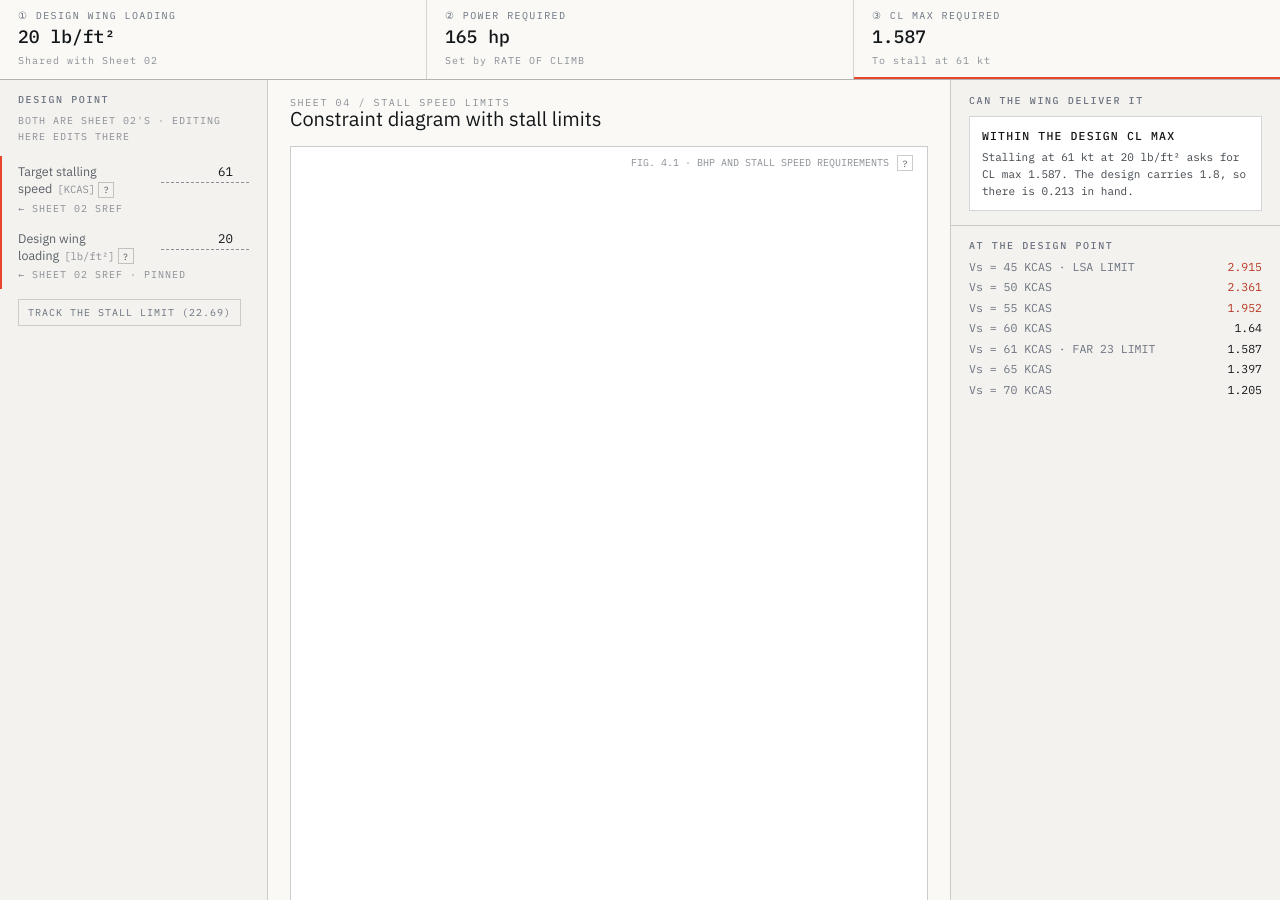
Scenario: StallLimits › writes the design wing loading to the atom Sheet 02 owns
Replace the text in the number field named "Design wing loading" with "26": (205, 240) [161, 230, 249, 250]
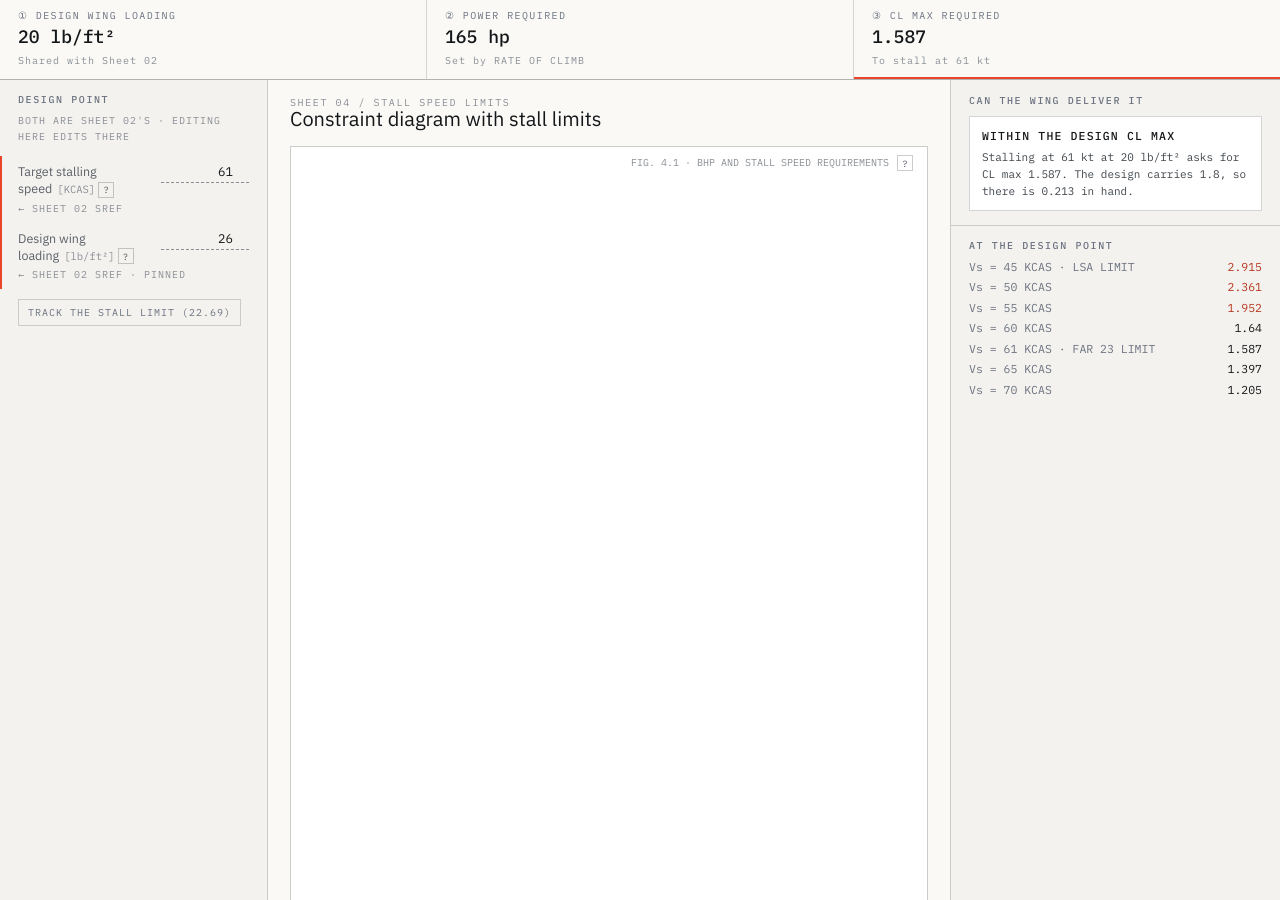
Leave the number field named "Design wing loading", box [161, 230, 249, 250]
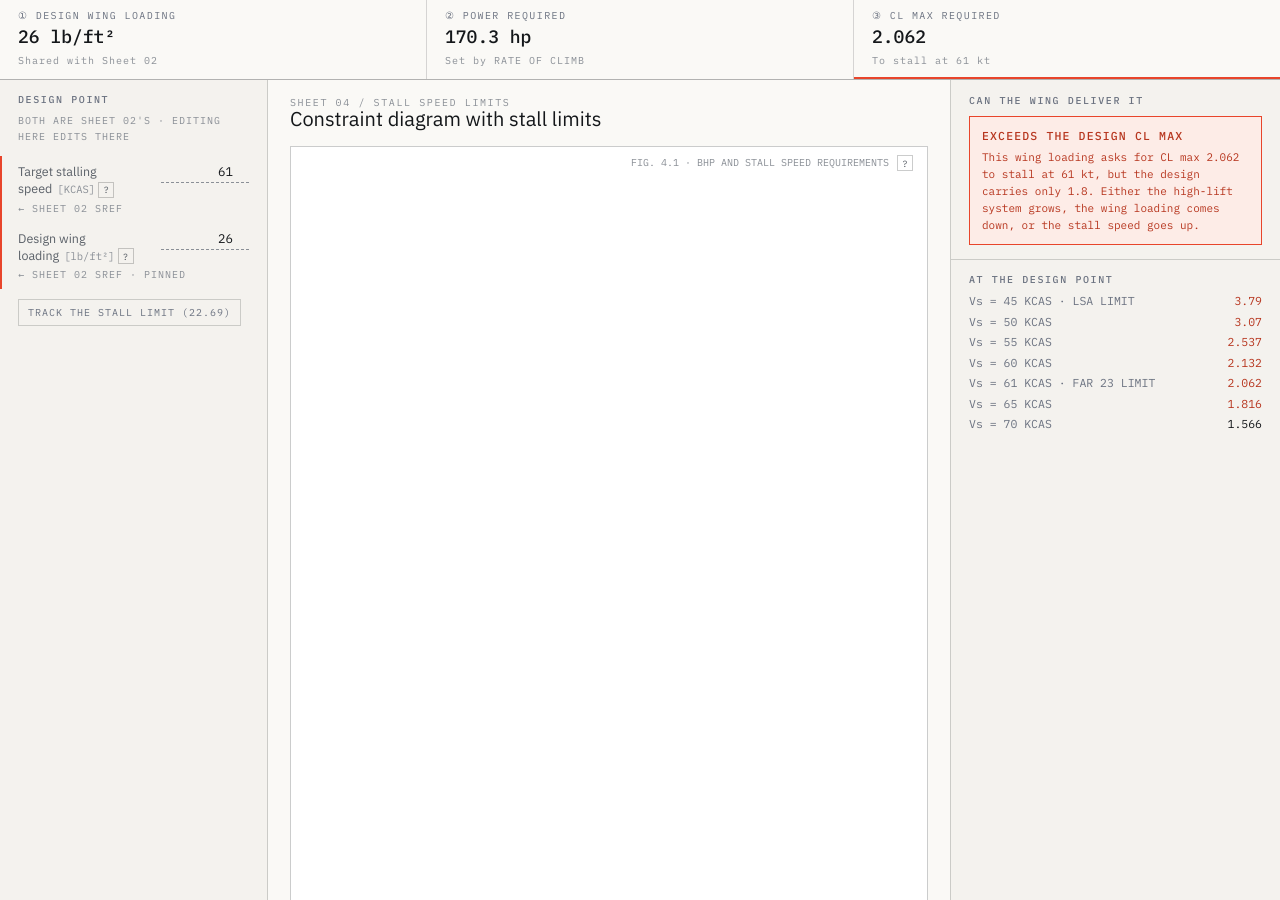
Now the text "26 lb/ft²" is shown, box [18, 25, 115, 48]
